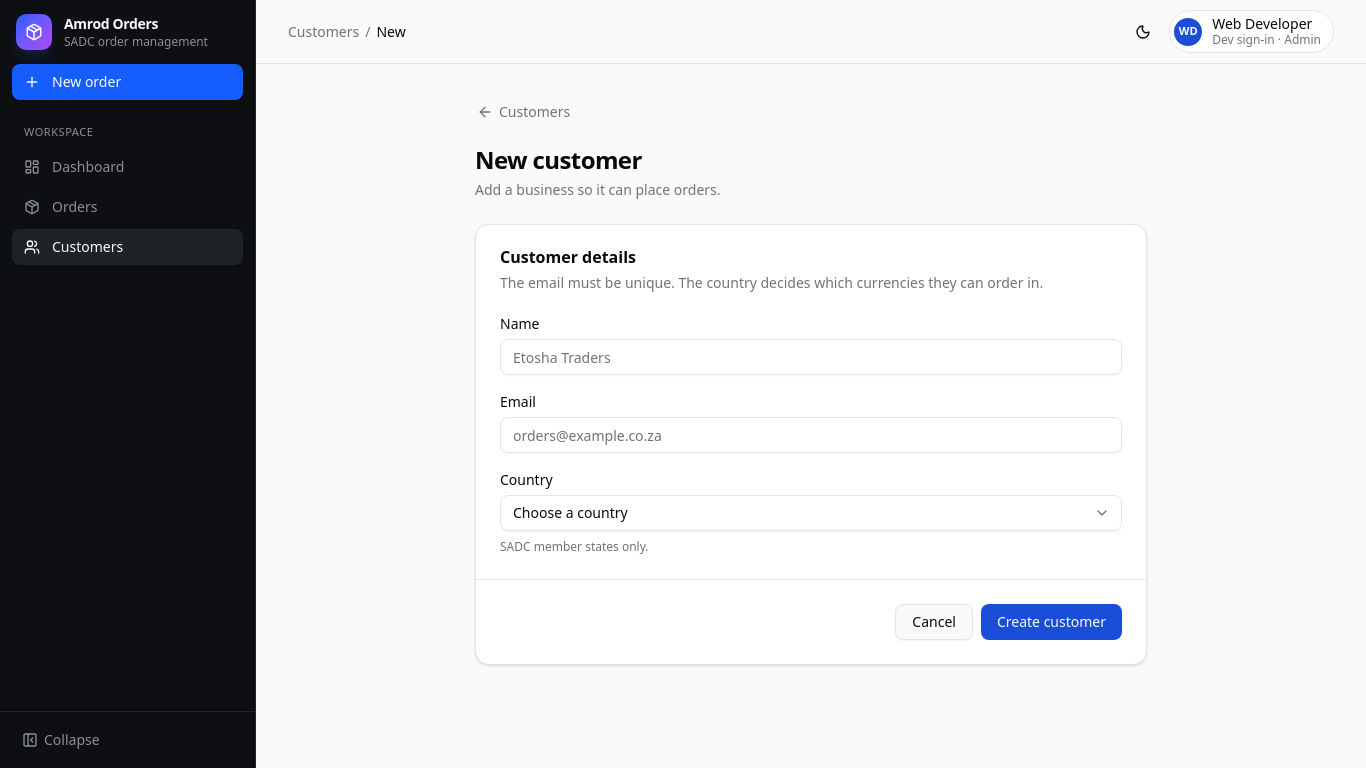
it: New customer form › creates the customer, confirms it and returns to the list
Type "Lerato Dlamini" into the field labelled "Name" at (811, 357), box top-left (500, 339), bottom-right (1122, 375)
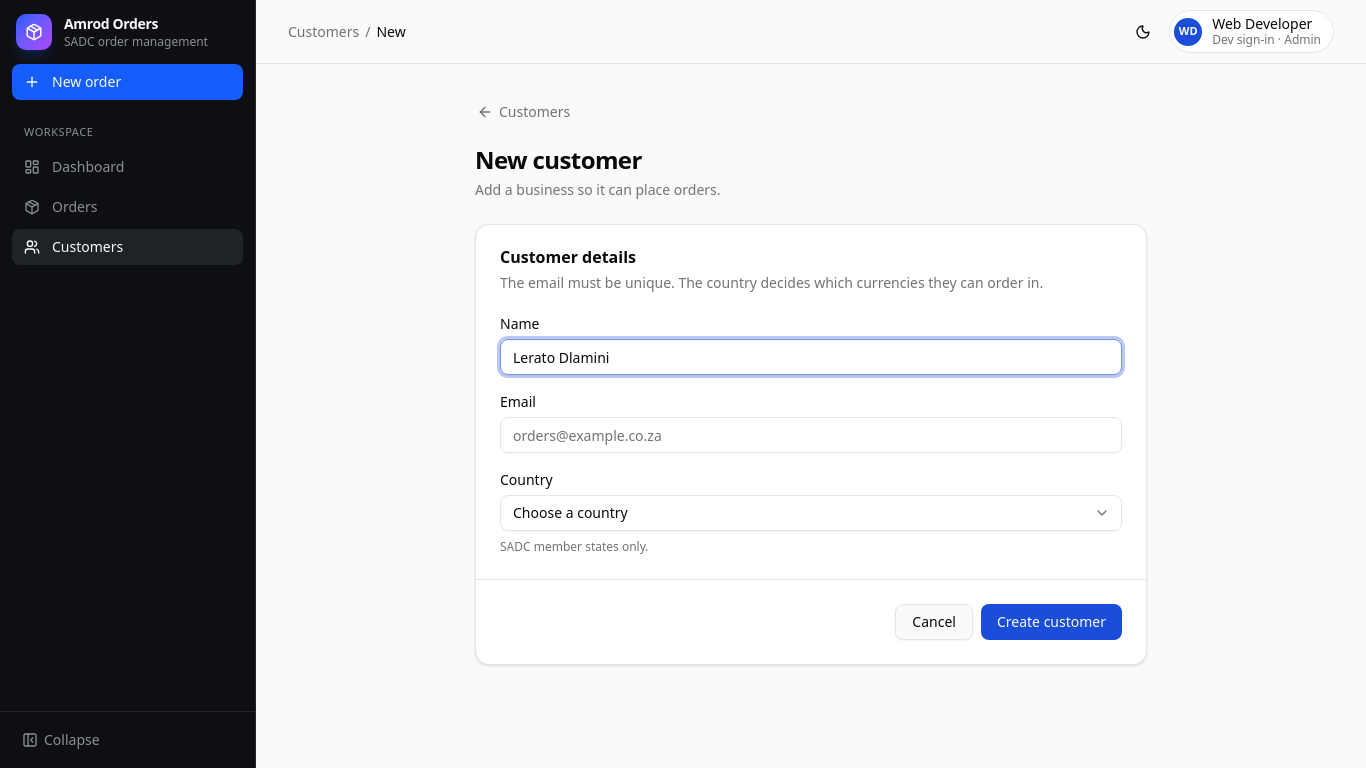
Type "lerato@example.co.ls" into the field labelled "Email" at (811, 435), box top-left (500, 417), bottom-right (1122, 453)
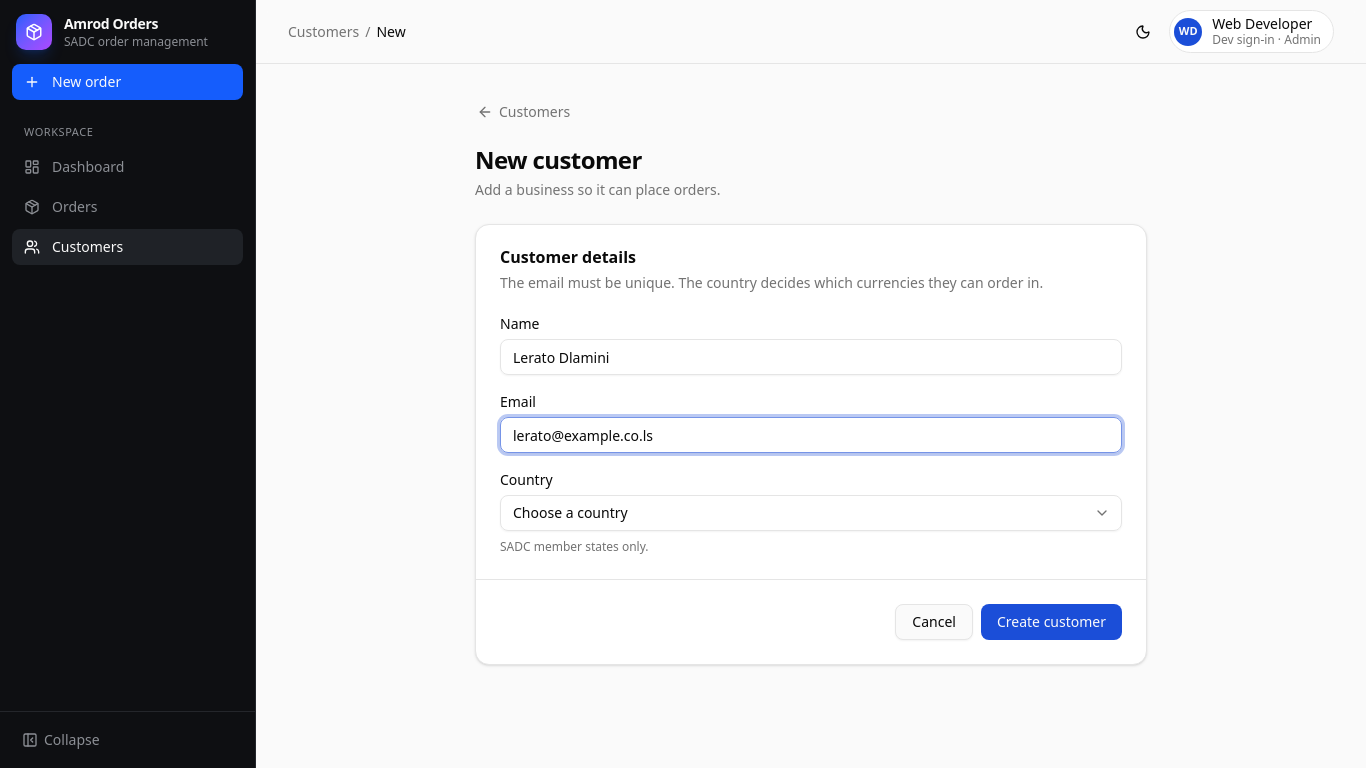
Select "Namibia" in the dropdown labelled "Country" at (811, 513), box top-left (500, 495), bottom-right (1122, 531)
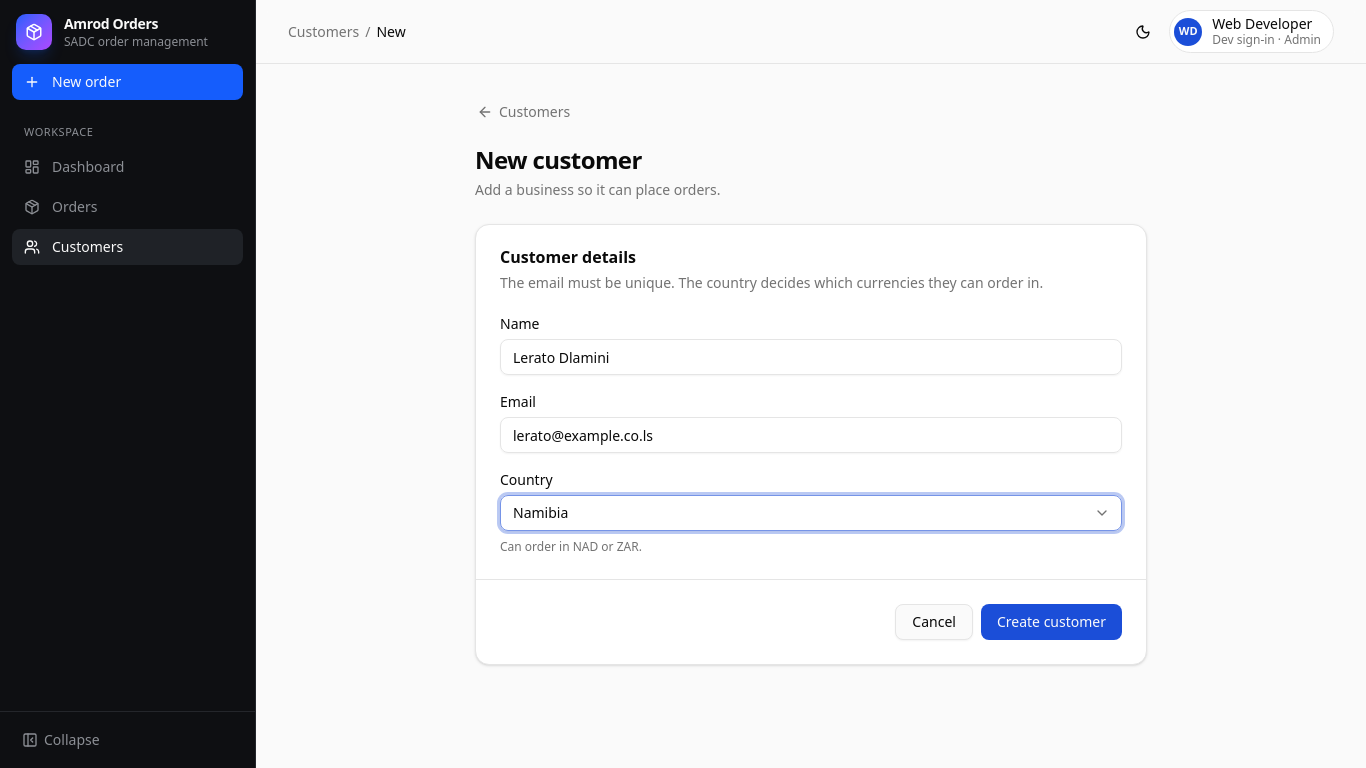
Click the button "Create customer" at (1051, 622), box top-left (981, 604), bottom-right (1122, 640)
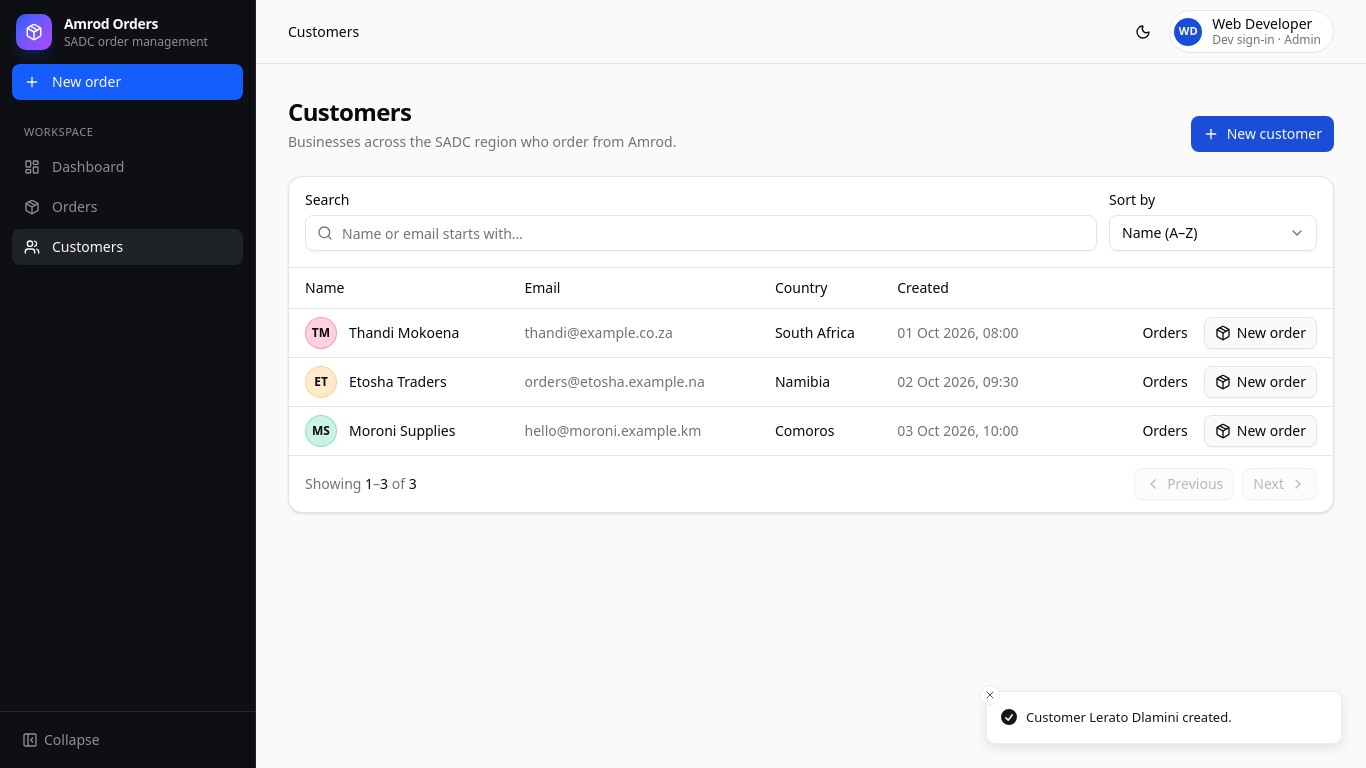
Result: the text "Customer Lerato Dlamini created." is shown at top-left (1026, 708), bottom-right (1232, 727)
